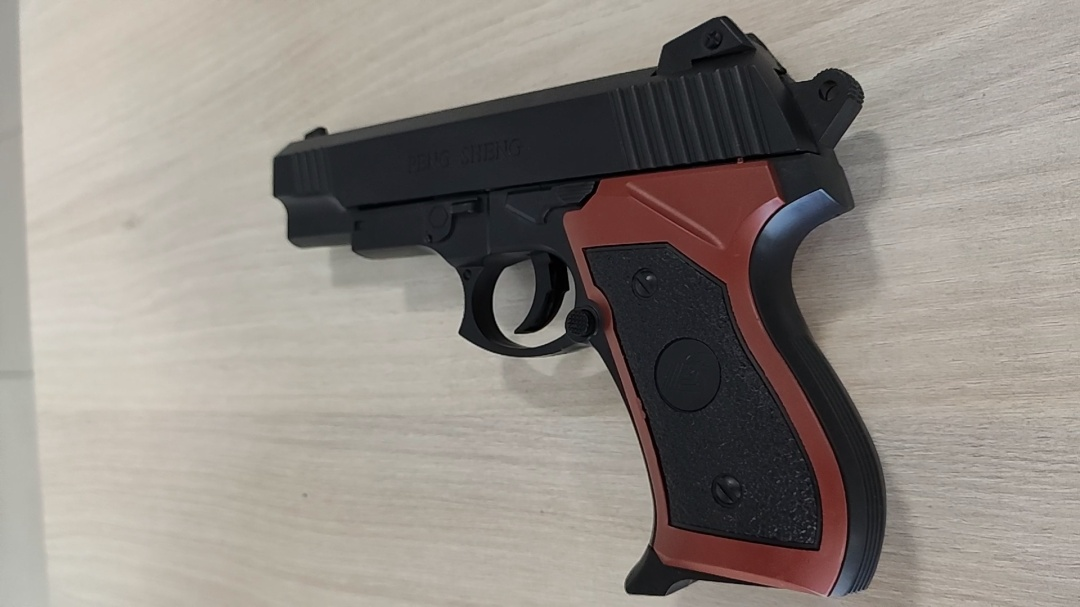gunw: (272, 16, 886, 596)
